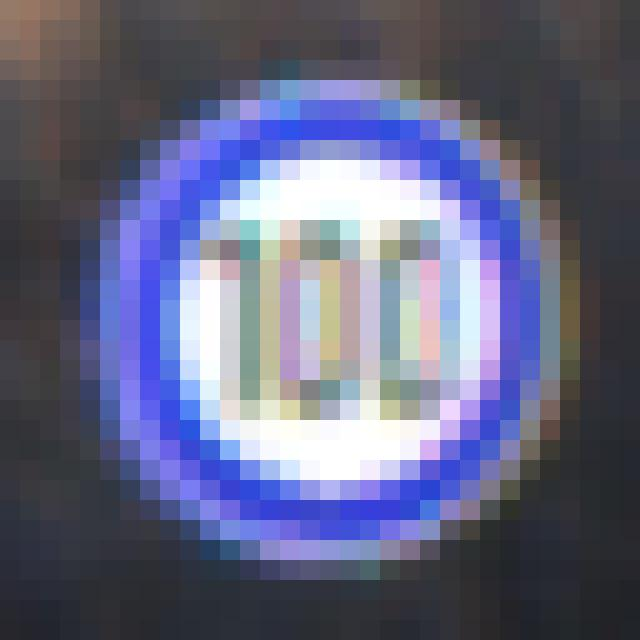SPEED LIMIT 100: (88, 89, 534, 560)
